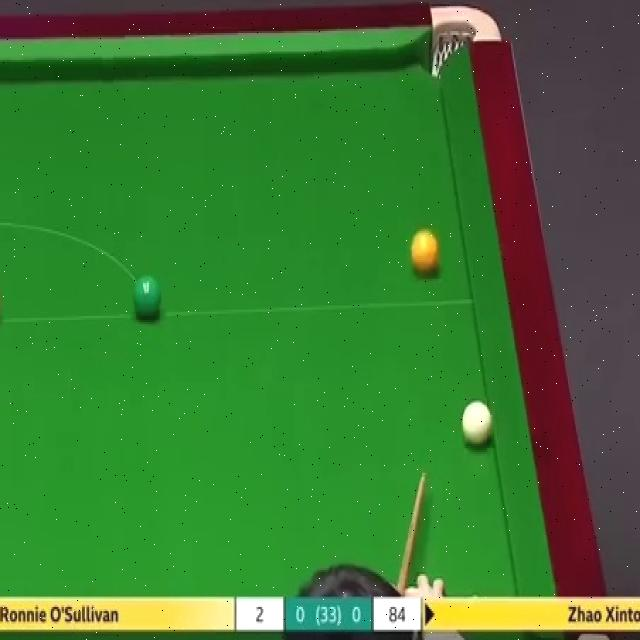green-ball: (132, 275, 161, 321)
white-ball: (462, 401, 491, 446)
yellow-ball: (410, 229, 439, 275)
